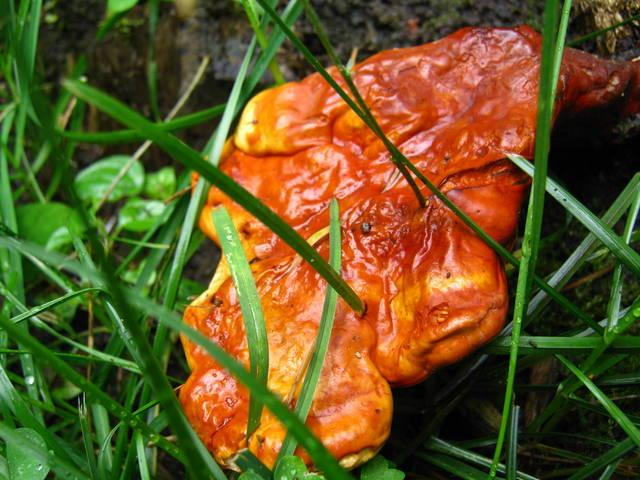Non-edible Mushroom: (175, 23, 639, 475)
